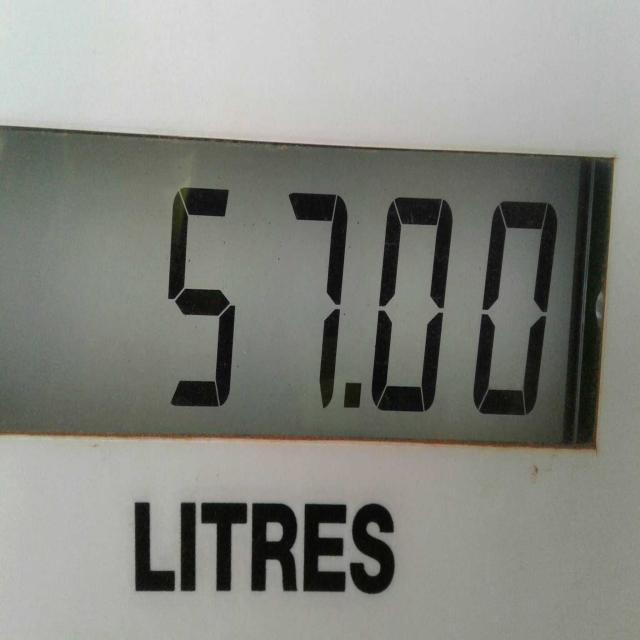.: (333, 370, 366, 441)
0: (475, 200, 560, 421), (372, 198, 450, 416)
5: (170, 185, 238, 401)
7: (292, 198, 345, 403)
